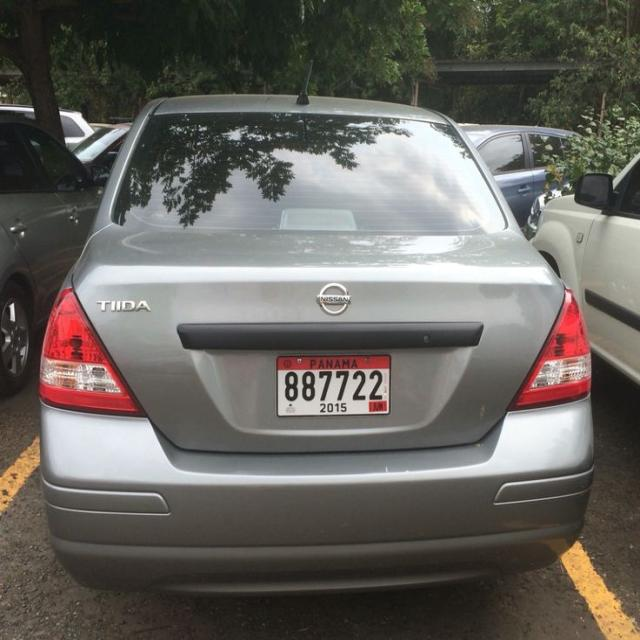Placas: (275, 351, 398, 422)
